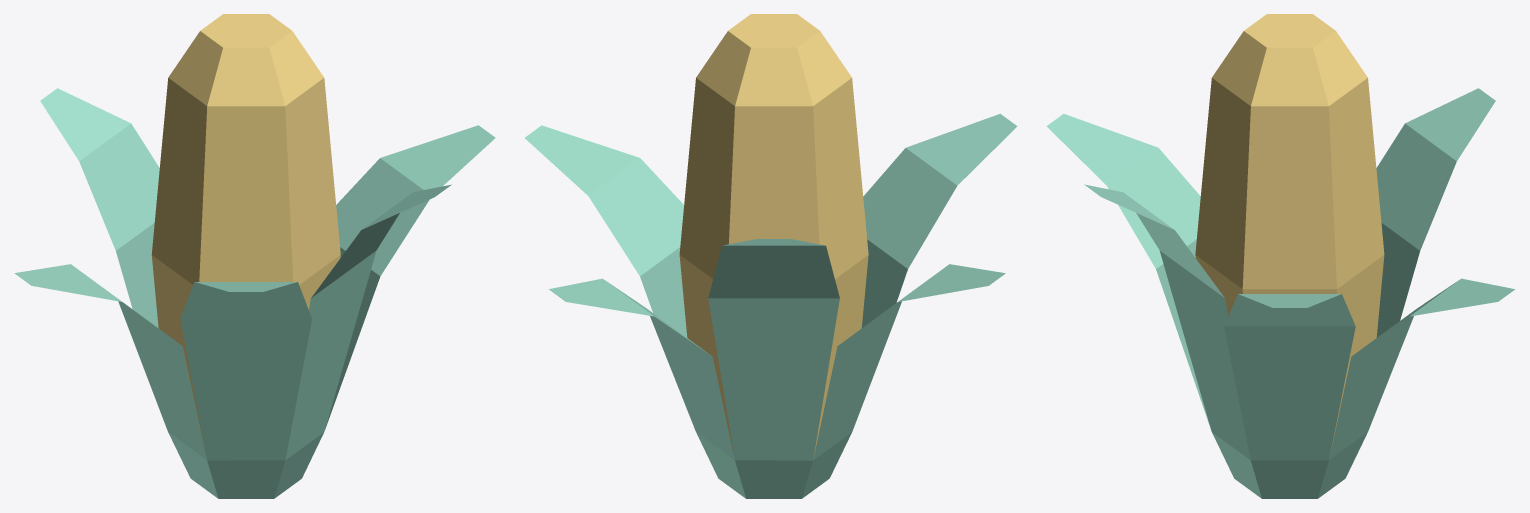
Rendered from corn.glb.
3 views of the same model, side by side, from view 1: azimuth 30°, elevation 25°; view 2: azimuth 150°, elevation 25°; view 3: azimuth 270°, elevation 25° (orthographic).
Visible parts, largest first — view 1: corn; view 2: corn; view 3: corn.
Boxes of the visible parts, left/top/right/bottom form: corn: left=14, top=14, right=495, bottom=498; corn: left=525, top=14, right=1017, bottom=498; corn: left=1046, top=14, right=1515, bottom=498.
Bounding box in the file's own units: 0.3432 × 0.3162 × 0.3003.
